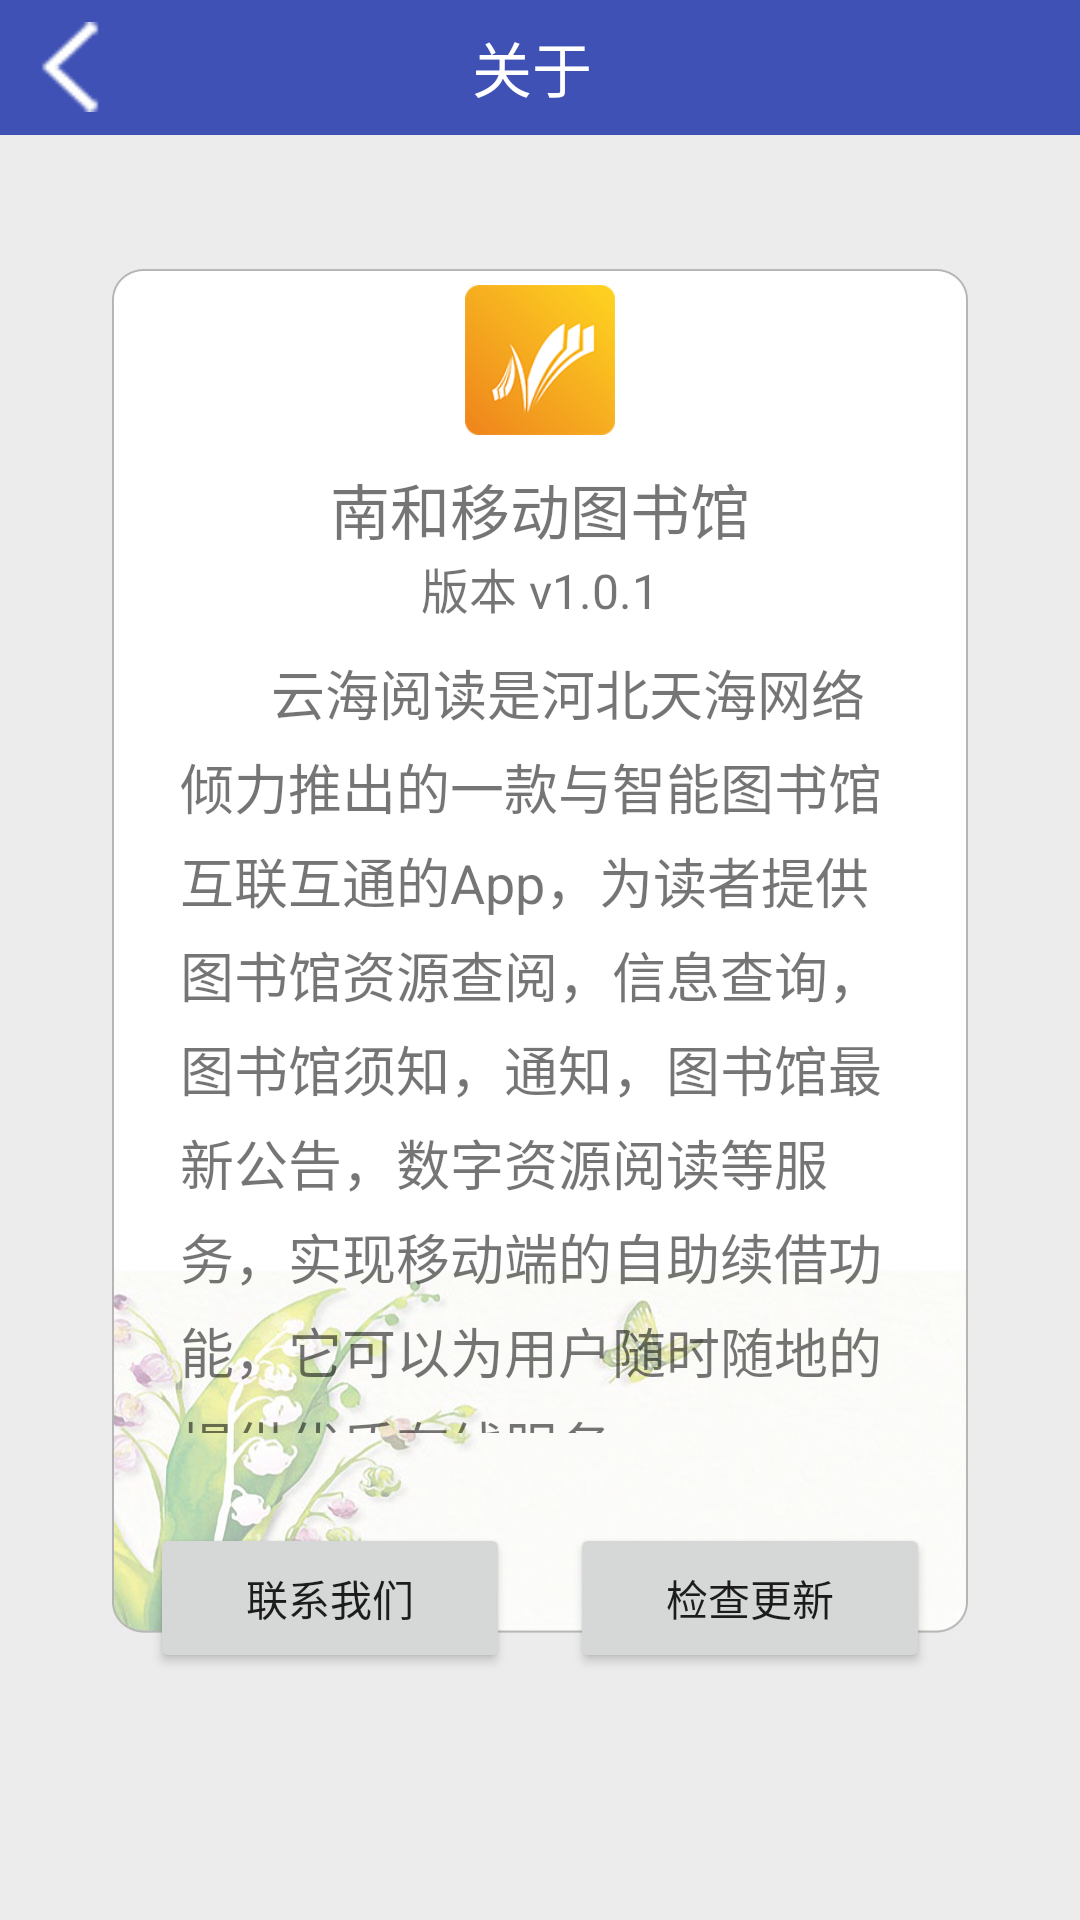

Named icons in this screenshot (1080 x 1920) and their centers, (x,y):
back: (70,67)
